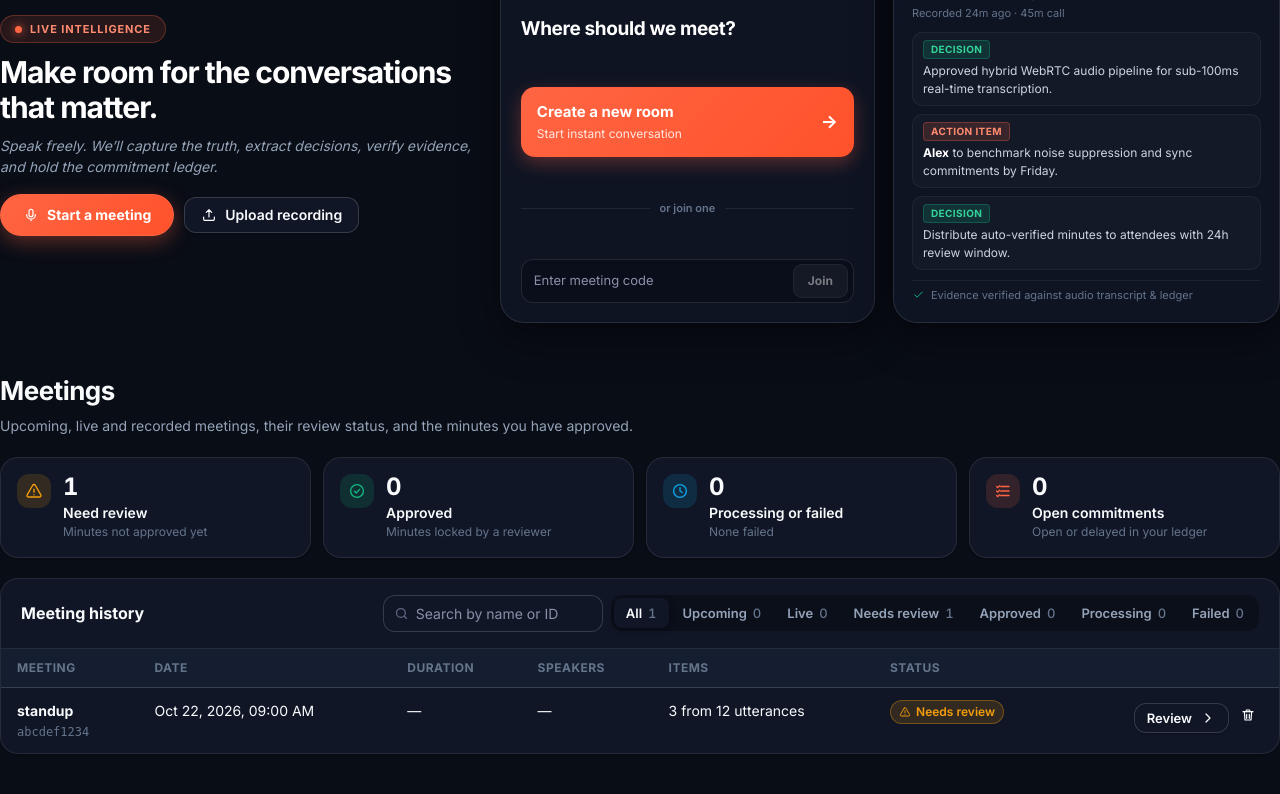
Scenario: Previous meetings › keeps the meeting and shows the server's reason when deletion is refused
The image size is (1280, 794).
(page scrolled)
Click the button named "Delete meeting abcdef1234".
click(1248, 715)  # box left=1233, top=700, right=1263, bottom=730
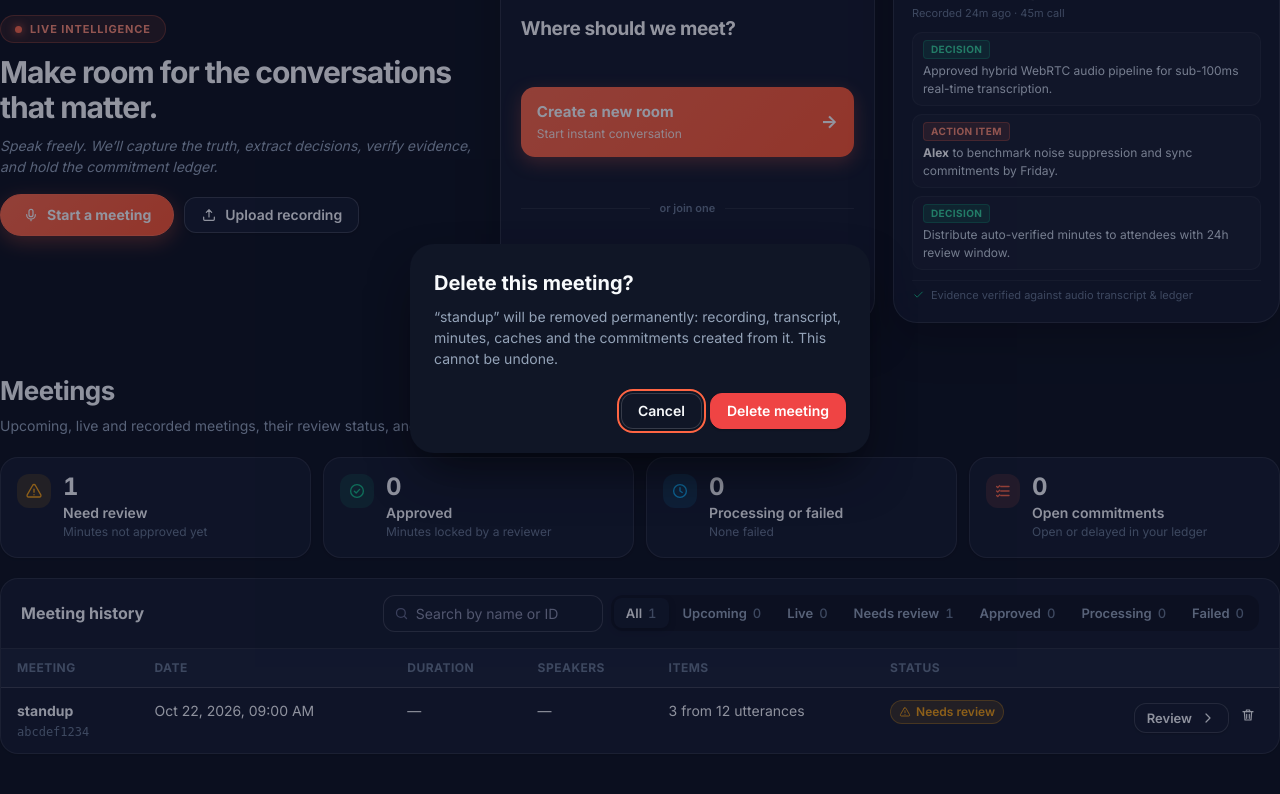
Click the button "Delete meeting".
click(778, 412)  # box left=710, top=394, right=846, bottom=430
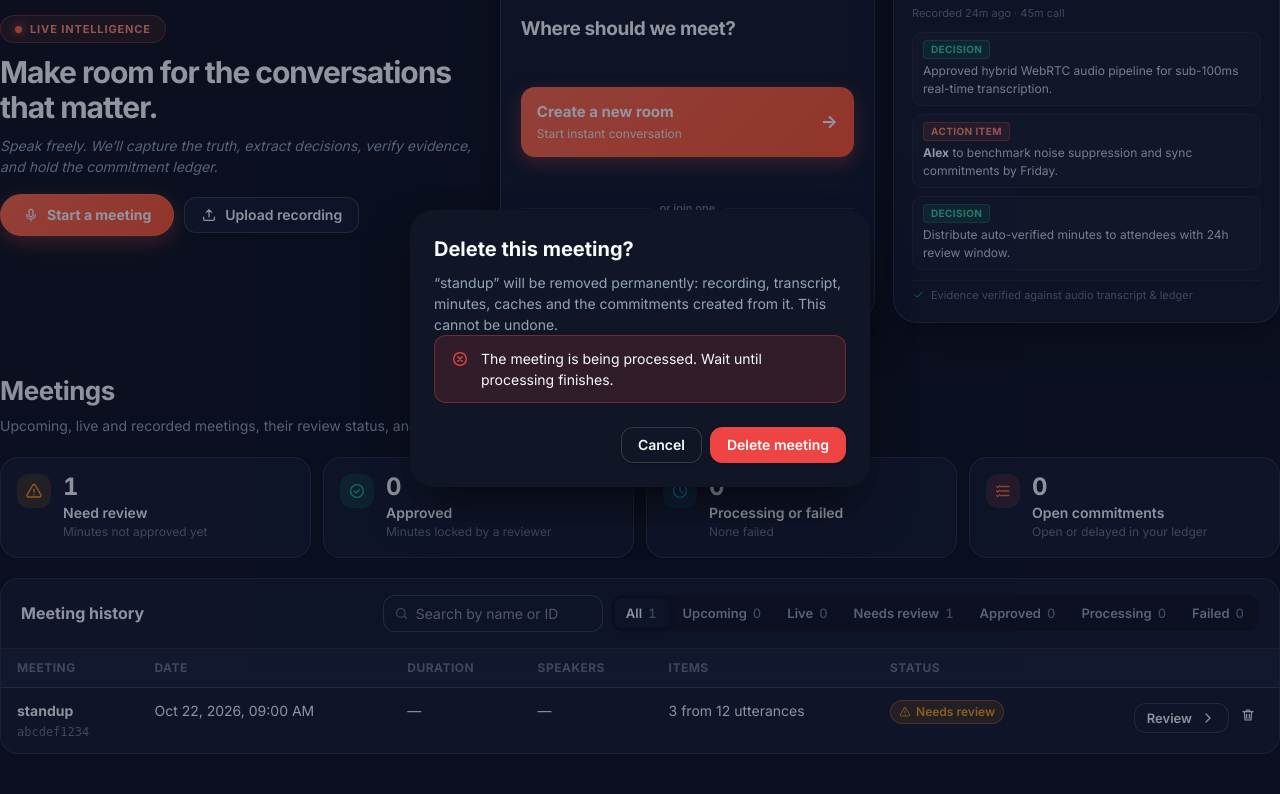
Expected: the button "standup" is shown, left=17, top=700, right=122, bottom=721
Expected: the text "being processed" is shown, left=481, top=350, right=762, bottom=388
